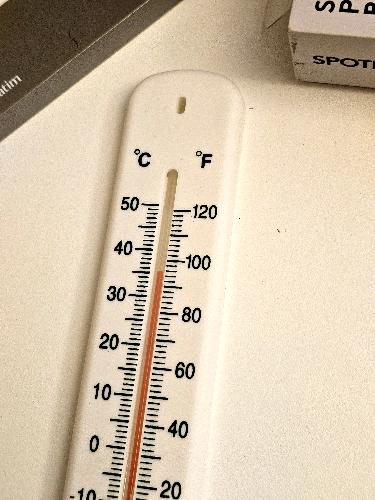thermo: (60, 49, 269, 500)
